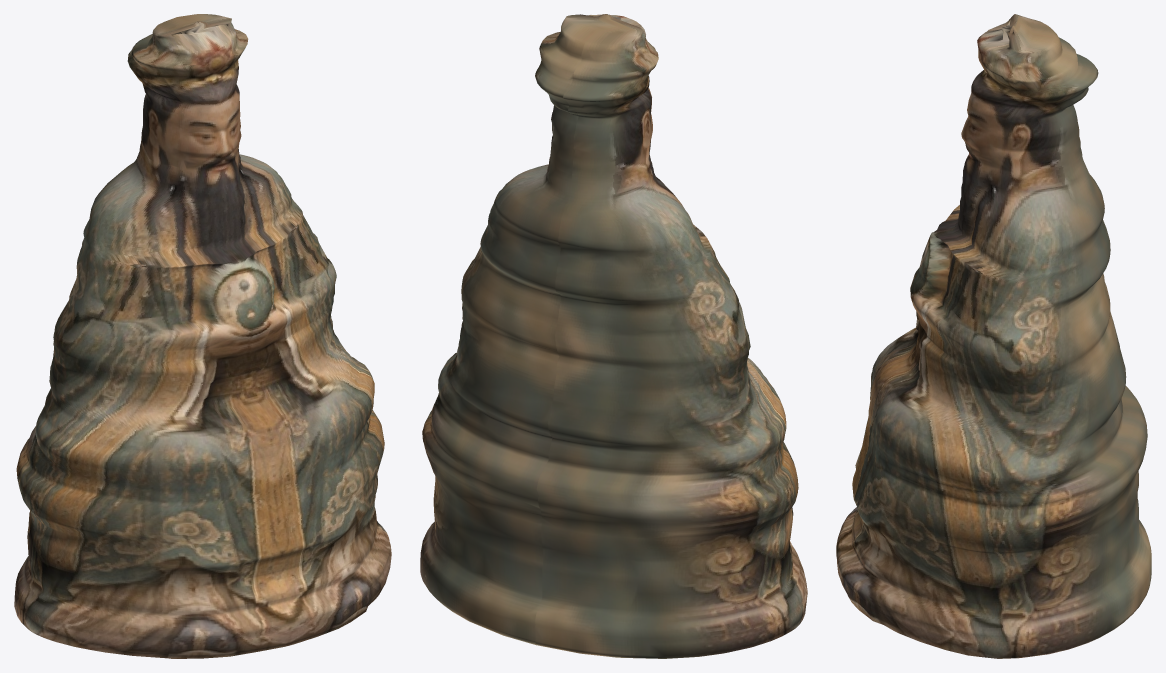
The model's file is lingbao.glb.
The picture shows the model from 3 angles, left to right: view 1: azimuth 30°, elevation 25°; view 2: azimuth 150°, elevation 25°; view 3: azimuth 270°, elevation 25°; orthographic projection. The views are drawn at different scales.
Parts seen in each view (by area): view 1: lingbao; view 2: lingbao; view 3: lingbao.
Part boxes in pixels (bbox=[...]): lingbao: bbox=[14, 14, 391, 658]; lingbao: bbox=[420, 14, 807, 658]; lingbao: bbox=[836, 14, 1151, 658].
Bounding box in the file's own units: 0.6486 × 1 × 0.5183.
Materials: 1 (1 with a texture image).
